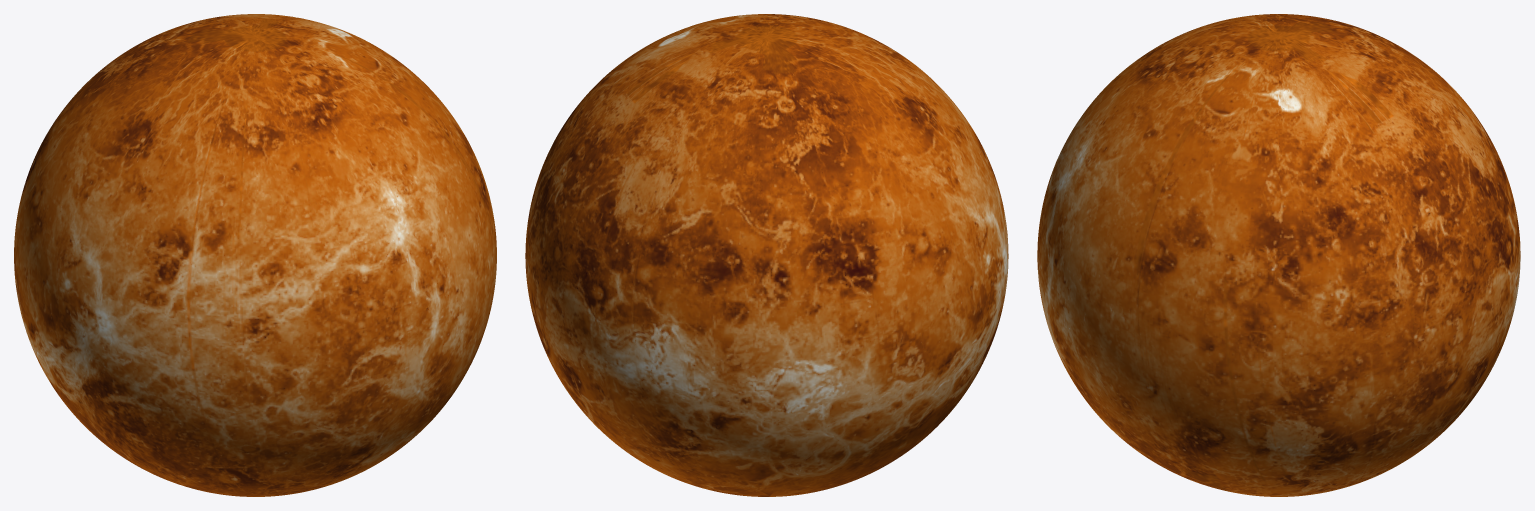
The model's file is venus.glb.
3 views of the same model, side by side, from view 1: azimuth 30°, elevation 25°; view 2: azimuth 150°, elevation 25°; view 3: azimuth 270°, elevation 25° (orthographic).
Visible parts, largest first — view 1: Venus • measured global relief.002; view 2: Venus • measured global relief.002; view 3: Venus • measured global relief.002.
Part boxes in pixels (left/top/right/bottom): Venus • measured global relief.002: left=14, top=14, right=496, bottom=496; Venus • measured global relief.002: left=525, top=14, right=1008, bottom=496; Venus • measured global relief.002: left=1037, top=14, right=1520, bottom=496.
Bounding box in the file's own units: 2 × 2 × 2.
1 material, 1 textured.
